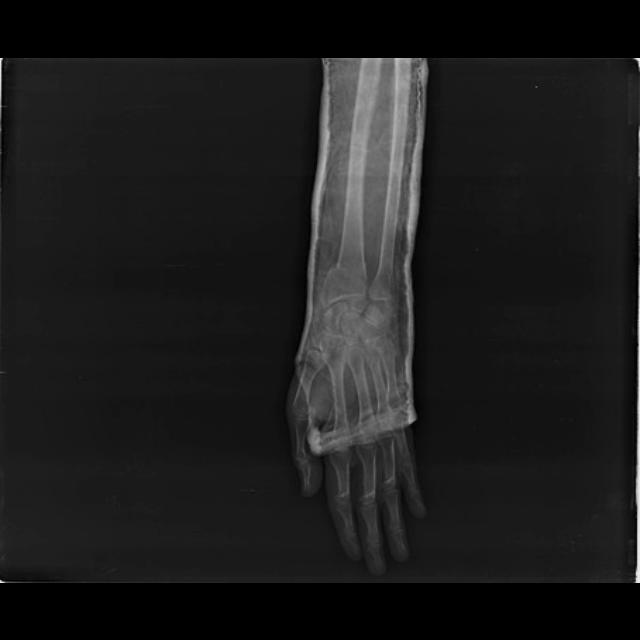Fracture: (326, 247, 368, 294)
